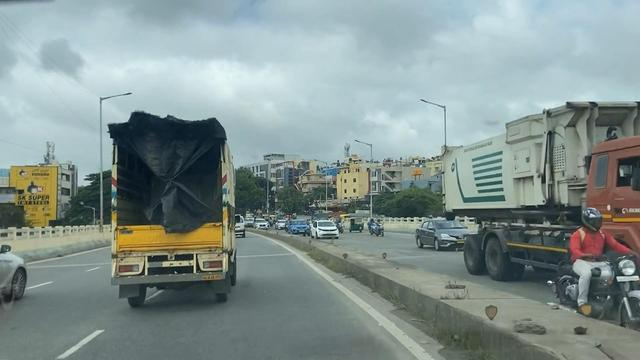HMV: (424, 89, 640, 286), (105, 107, 244, 307)
